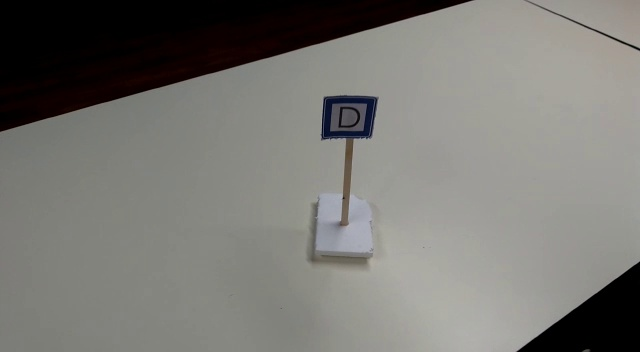durak: (321, 96, 376, 138)
